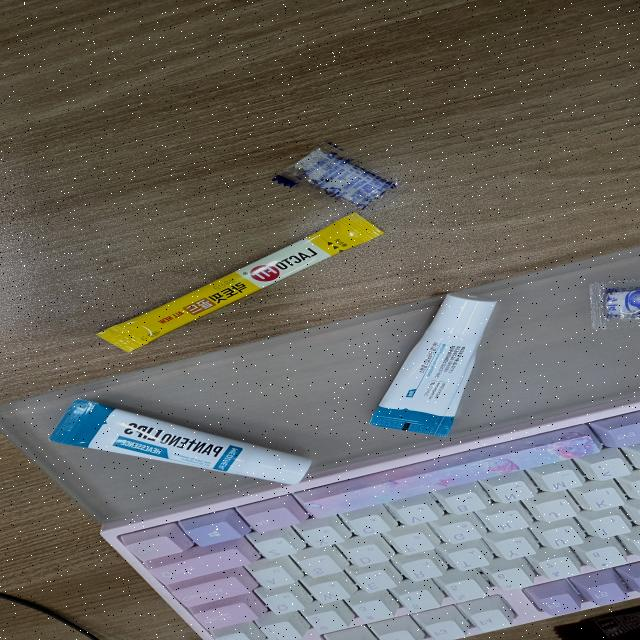lacto: (93, 210, 385, 354)
lib: (43, 398, 315, 488), (368, 292, 502, 438)
salt: (276, 137, 405, 216), (585, 278, 639, 332)
